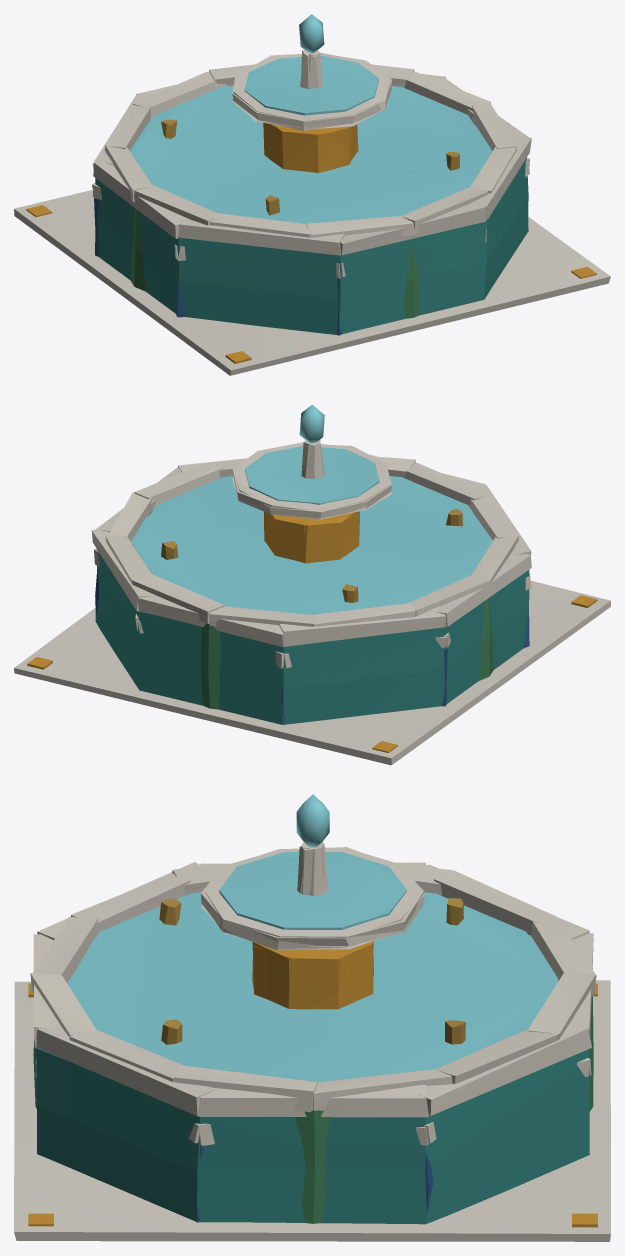
File: fountain.courtyard.glb
3 renders of one model, top to bottom at view 1: azimuth 30°, elevation 25°; view 2: azimuth 150°, elevation 25°; view 3: azimuth 270°, elevation 25°, orthographic. The views are drawn at different scales.
Visible parts, largest first — view 1: fountain.courtyard.v0.mesh, fountain.courtyard.v2.mesh, fountain.courtyard.v2.water, fountain.courtyard.v0.water, fountain.courtyard.v1.mesh; view 2: fountain.courtyard.v0.mesh, fountain.courtyard.v2.mesh, fountain.courtyard.v2.water, fountain.courtyard.v0.water, fountain.courtyard.v1.mesh; view 3: fountain.courtyard.v0.mesh, fountain.courtyard.v2.mesh, fountain.courtyard.v2.water, fountain.courtyard.v0.water, fountain.courtyard.v1.mesh.
Boxes of the visible parts, x1,y1,x2,y2 form: fountain.courtyard.v0.mesh: (92,50,531,334); fountain.courtyard.v2.mesh: (14,50,610,375); fountain.courtyard.v2.water: (131,17,491,223); fountain.courtyard.v0.water: (130,14,492,152); fountain.courtyard.v1.mesh: (92,158,529,335); fountain.courtyard.v0.mesh: (91,440,531,724); fountain.courtyard.v2.mesh: (14,441,610,765); fountain.courtyard.v2.water: (132,408,491,614); fountain.courtyard.v0.water: (131,404,492,543); fountain.courtyard.v1.mesh: (94,549,531,724); fountain.courtyard.v0.mesh: (33,841,593,1224); fountain.courtyard.v2.mesh: (14,842,610,1241); fountain.courtyard.v2.water: (67,800,557,1082); fountain.courtyard.v0.water: (79,794,558,981); fountain.courtyard.v1.mesh: (35,1058,591,1222).
Bounding box in the file's own units: 1.85 × 1.1 × 1.84.
